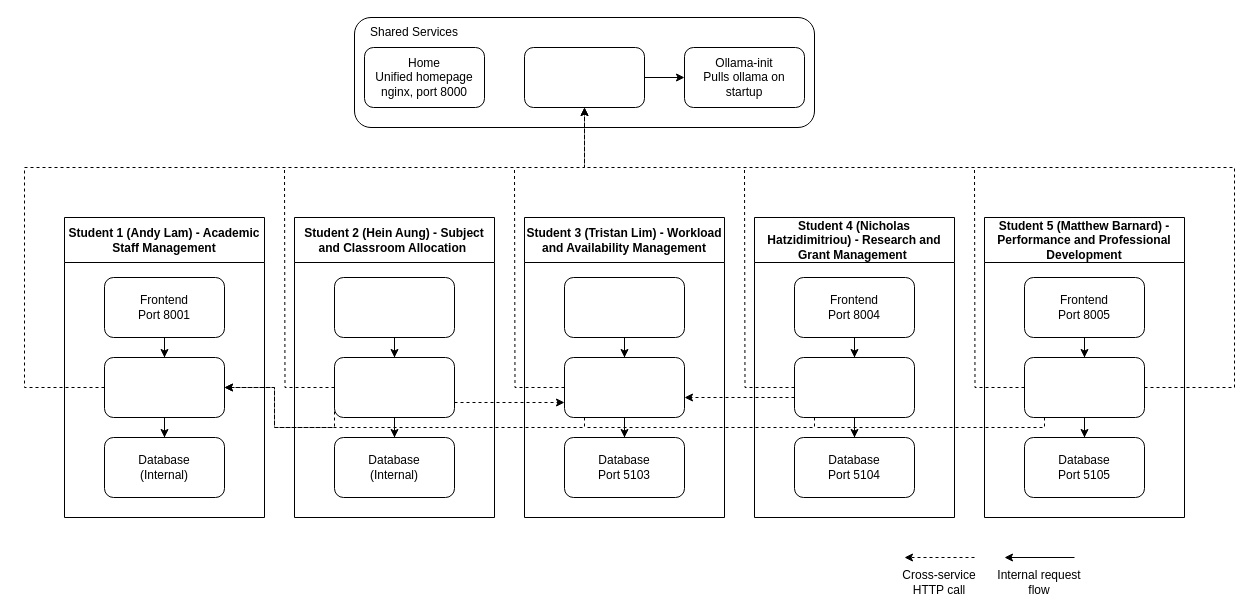
Some shapes in this 1260 by 615 pixel diagram are drawn without their labels. The shapes that lost their labels are listed below. From the top down, each one's centre as x and y in pixels, then its label:
At (584,77): "Ollama Shared runtime".
At (394,307): "Frontend Port 8002".
At (624,307): "Frontend Port 8003".
At (164,387): "Backend Port 5001".
At (394,387): "Backend Port 5002".
At (624,387): "Backend Port 5003".
At (854,387): "Backend Port 5004".
At (1084,387): "Backend Port 5005".
